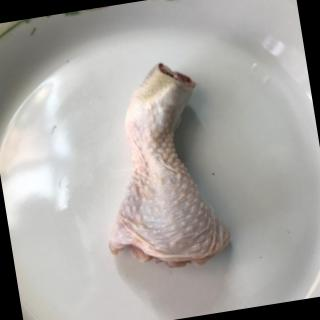Ayam: (81, 57, 236, 283)
